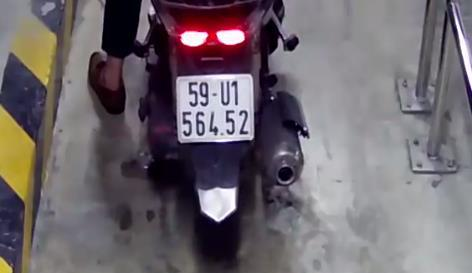lisence: (175, 75, 255, 141)
